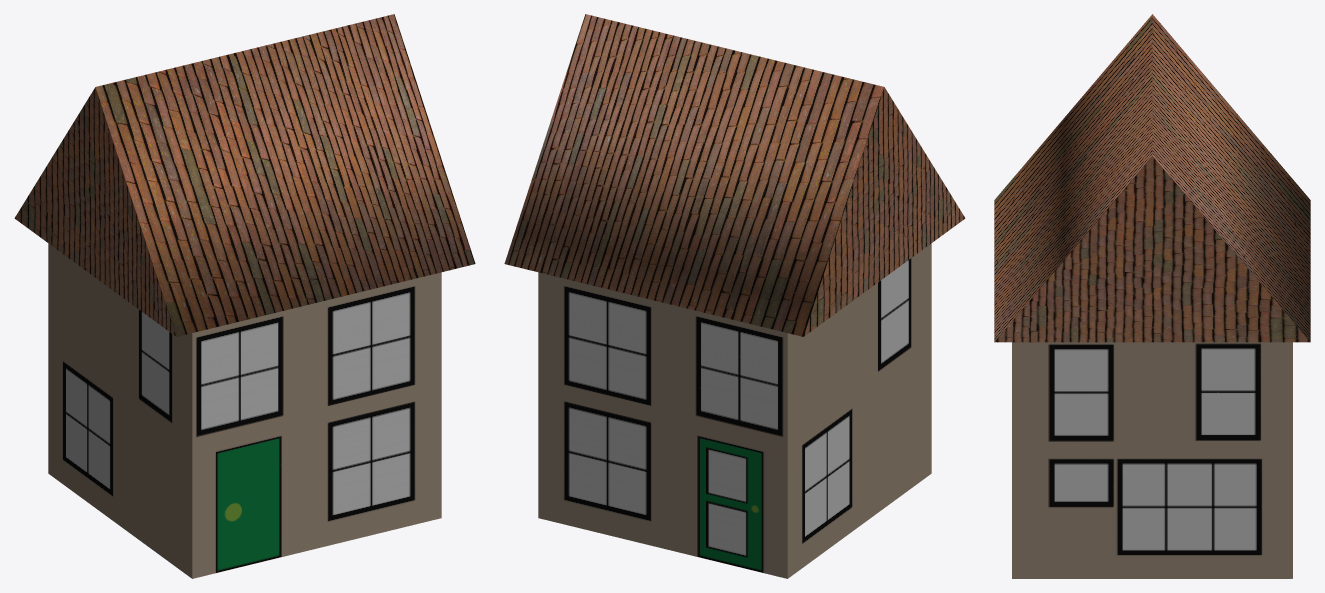
The model's file is house_scene.glb.
The picture shows the model from 3 angles, left to right: view 1: azimuth 30°, elevation 25°; view 2: azimuth 150°, elevation 25°; view 3: azimuth 270°, elevation 25°; orthographic projection. The views are drawn at different scales.
Parts seen in each view (by area): view 1: house; view 2: house; view 3: house.
Part boxes in pixels (box(x1,y1,x2,y2)): house: box(14, 14, 475, 578); house: box(504, 14, 965, 578); house: box(994, 14, 1310, 578).
Size of what is drawn, in the model's own units: 1.2 by 1.71 by 1.13.
Materials: 2 (2 with a texture image).
